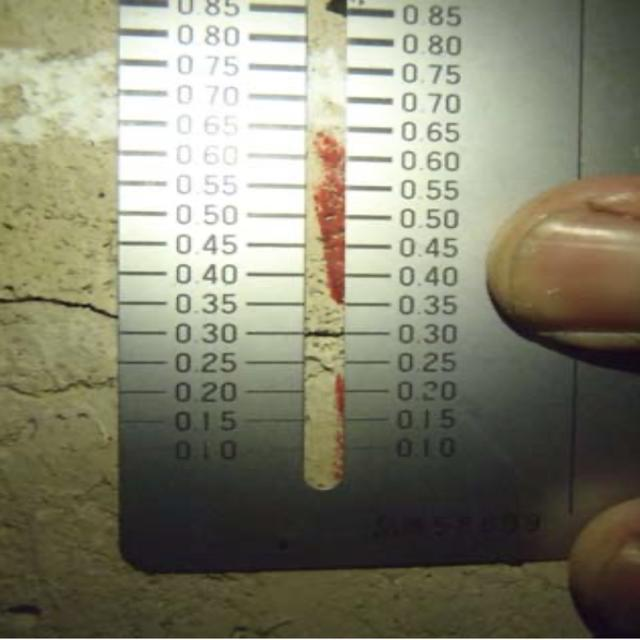crack: (5, 281, 121, 416), (309, 293, 344, 388)
